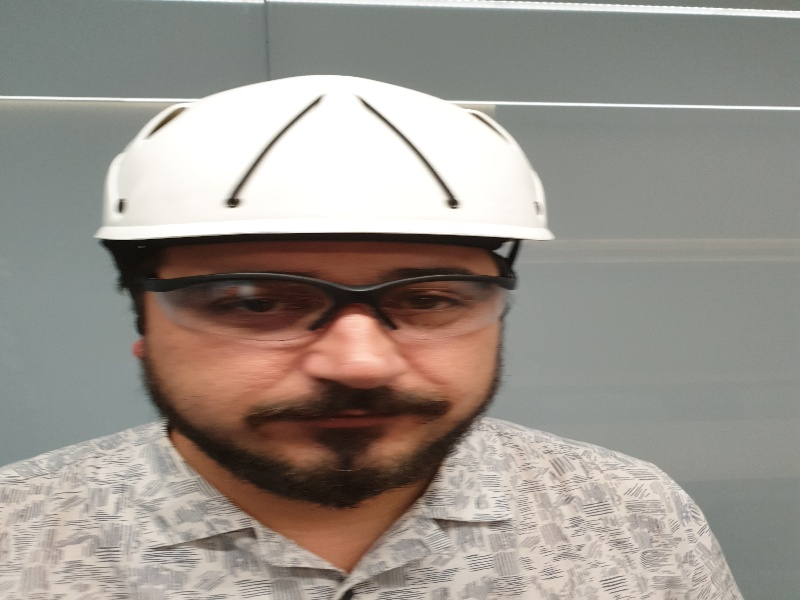Baret: (103, 76, 552, 247)
Gozluk: (129, 274, 512, 342)
